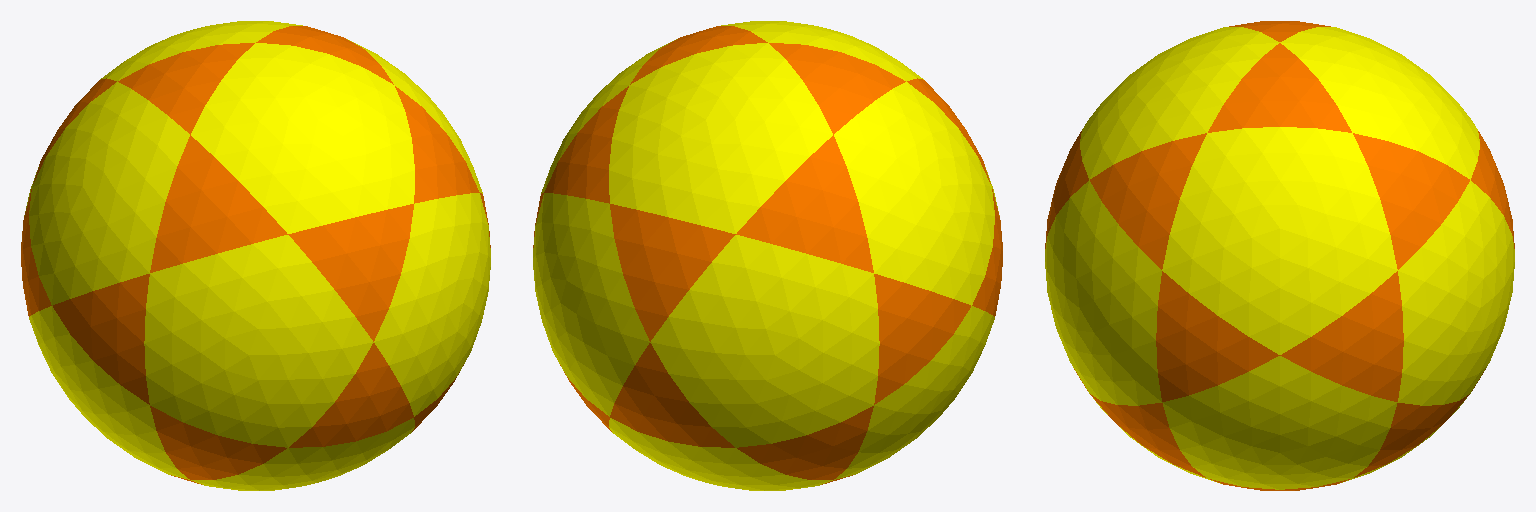
The picture shows the model from 3 angles: view 1: azimuth 30°, elevation 25°; view 2: azimuth 150°, elevation 25°; view 3: azimuth 270°, elevation 25°; orthographic projection.
Visible parts, largest first — view 1: icosahedron1; view 2: icosahedron1; view 3: icosahedron1.
Part boxes in pixels (left/top/right/bottom): icosahedron1: left=21, top=21, right=490, bottom=490; icosahedron1: left=533, top=21, right=1002, bottom=490; icosahedron1: left=1045, top=21, right=1514, bottom=490.
Bounding box in the file's own units: 1 × 1 × 1.